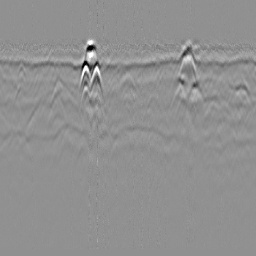cavity: (119, 69, 137, 93)
